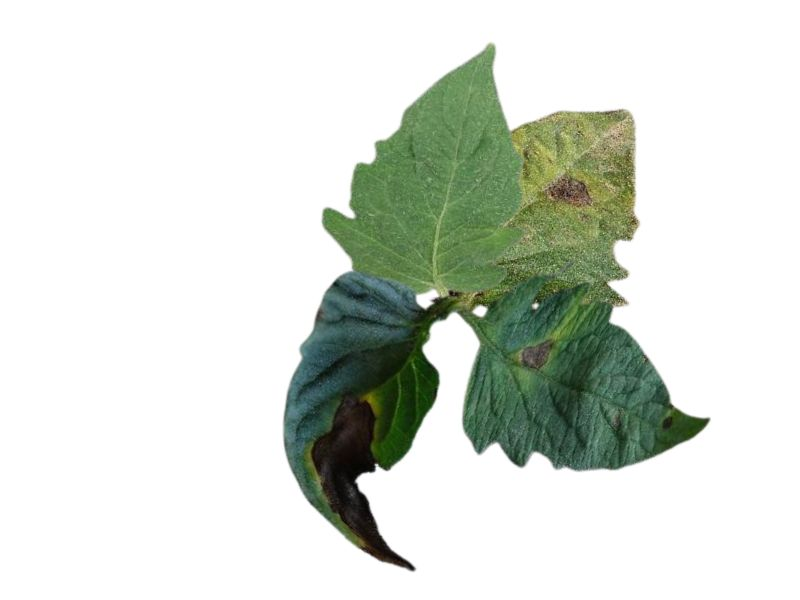Early_blight: (309, 389, 417, 571), (544, 175, 592, 211), (518, 336, 556, 371), (658, 414, 673, 430)
